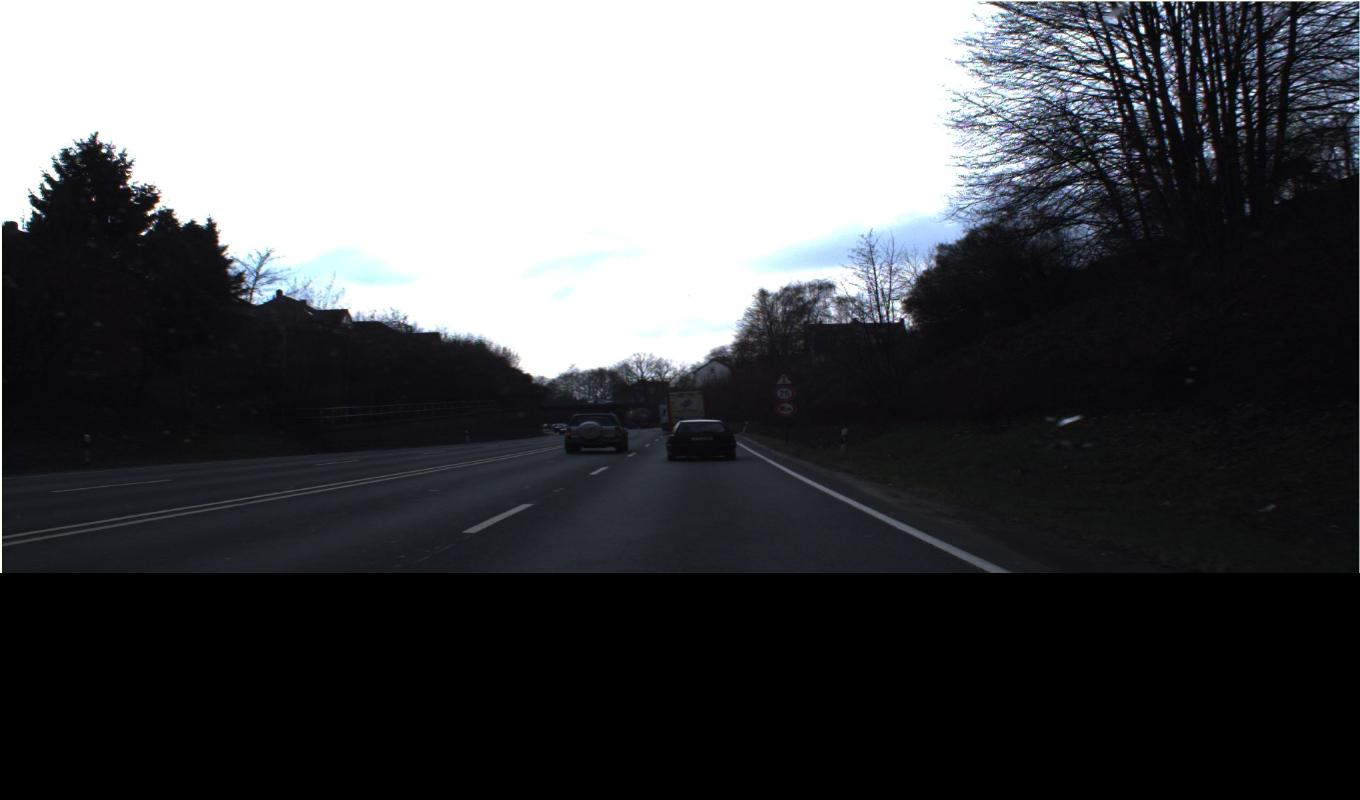traffic signal: (770, 371, 797, 417)
